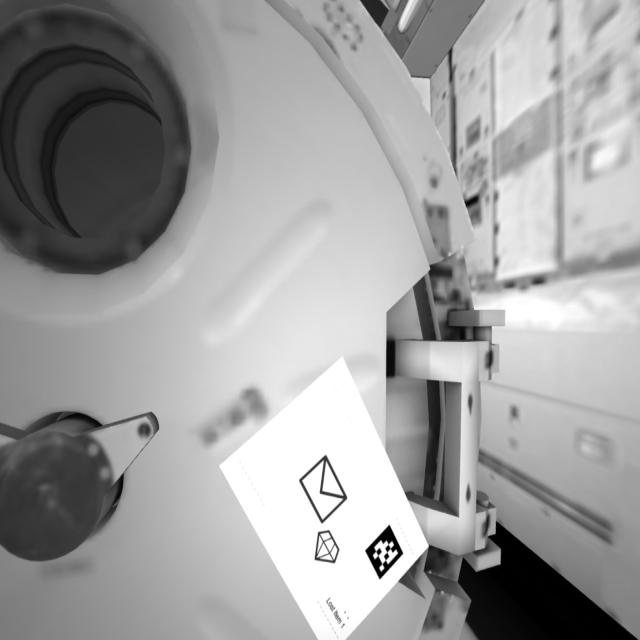diamond: (307, 527, 344, 573)
letter: (298, 456, 347, 523)
